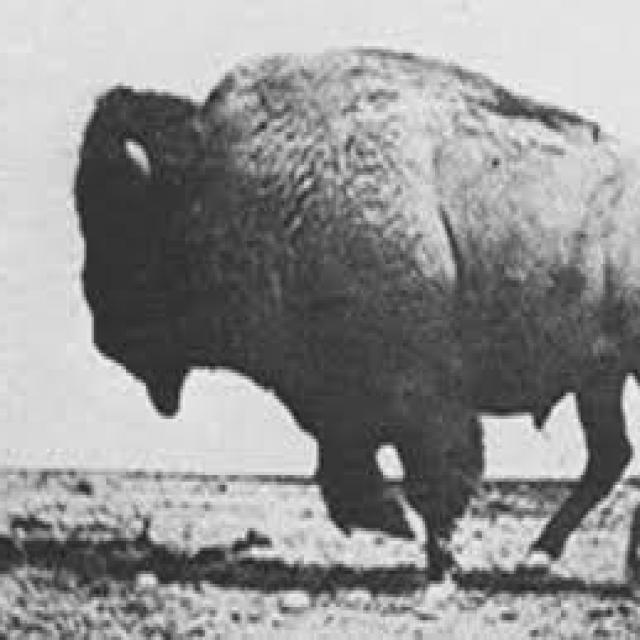bison: (77, 49, 640, 571)
